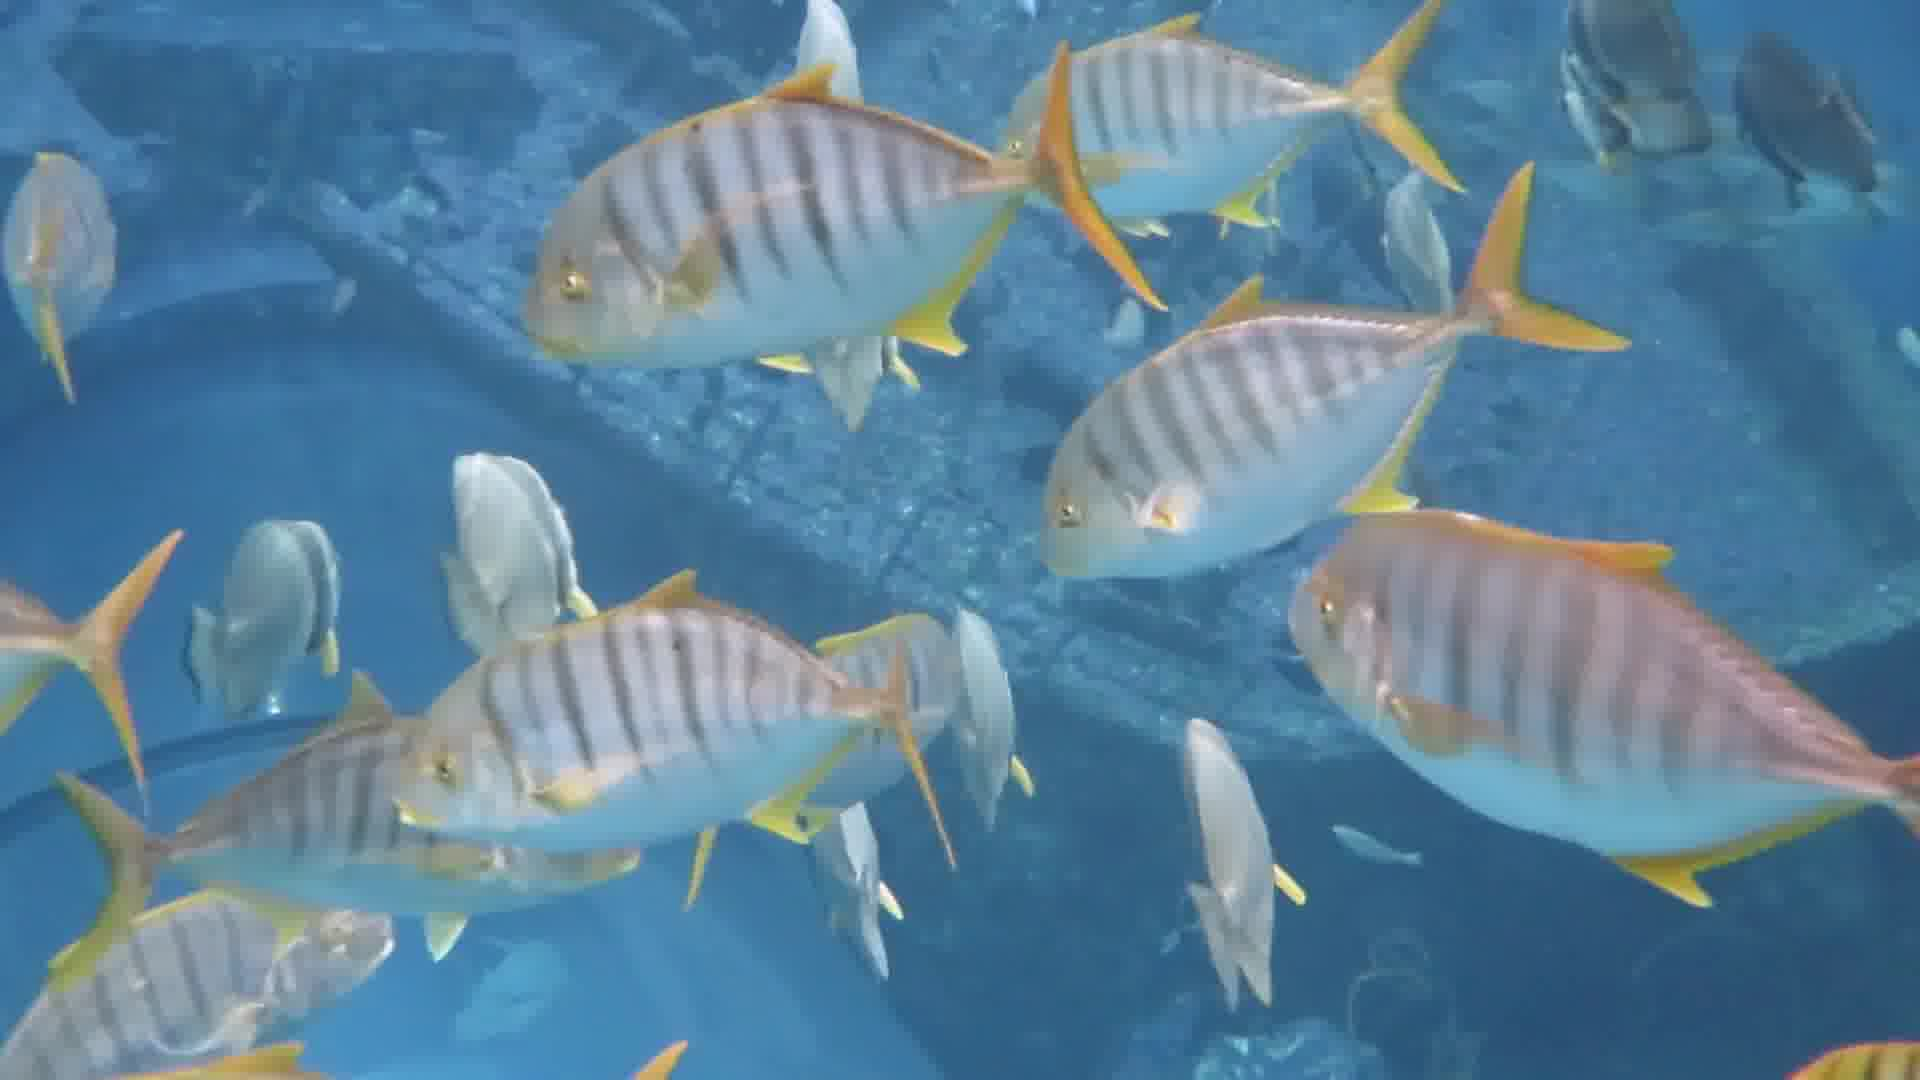Gnathanodon speciosus: (1278, 521, 1900, 882), (516, 78, 1050, 385), (1046, 276, 1506, 585), (367, 611, 918, 832), (985, 3, 1520, 208)
